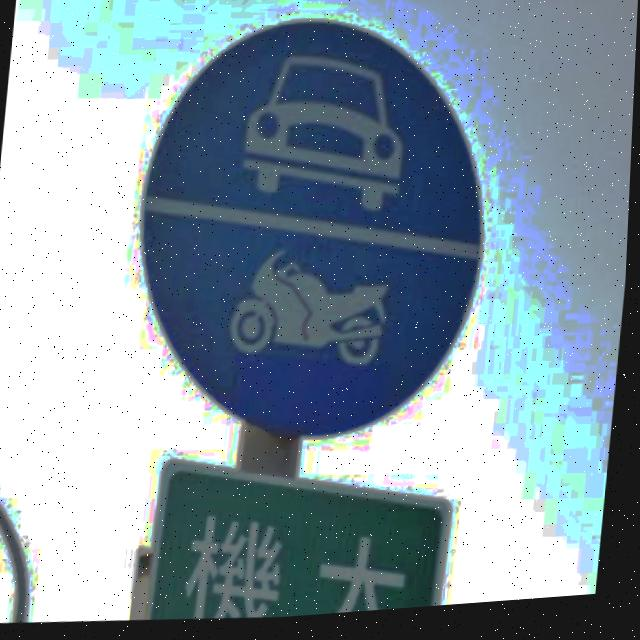carmotorcycle: (144, 26, 485, 444)
